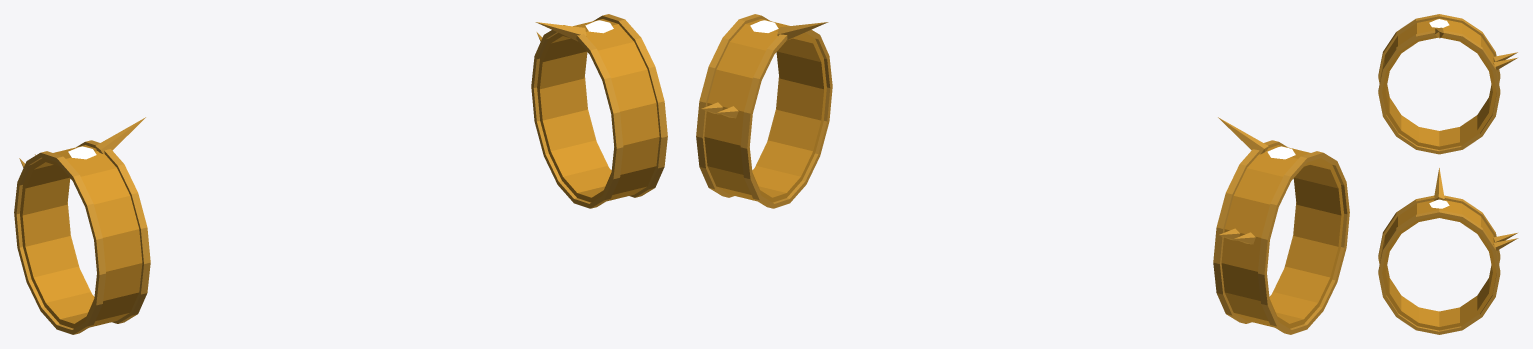
Rendered from armor_knight_arms_legendary_human.glb.
3 views of the same model, side by side, from view 1: azimuth 30°, elevation 25°; view 2: azimuth 150°, elevation 25°; view 3: azimuth 270°, elevation 25° (orthographic). The views are drawn at different scales.
Parts seen in each view (by area): view 1: armor_knight_arms_legendary_human__lowerarm_r, armor_knight_arms_legendary_human__lowerarm_l; view 2: armor_knight_arms_legendary_human__lowerarm_r, armor_knight_arms_legendary_human__lowerarm_l; view 3: armor_knight_arms_legendary_human__lowerarm_l, armor_knight_arms_legendary_human__lowerarm_r.
Part boxes in pixels (x1,y1,x2,y2): armor_knight_arms_legendary_human__lowerarm_r: (14, 117, 150, 334); armor_knight_arms_legendary_human__lowerarm_l: (531, 14, 667, 208); armor_knight_arms_legendary_human__lowerarm_r: (1213, 117, 1349, 334); armor_knight_arms_legendary_human__lowerarm_l: (696, 14, 832, 208); armor_knight_arms_legendary_human__lowerarm_l: (1378, 168, 1518, 334); armor_knight_arms_legendary_human__lowerarm_r: (1378, 14, 1517, 154).
Bounding box in the file's own units: 119 × 38.32 × 35.71.
